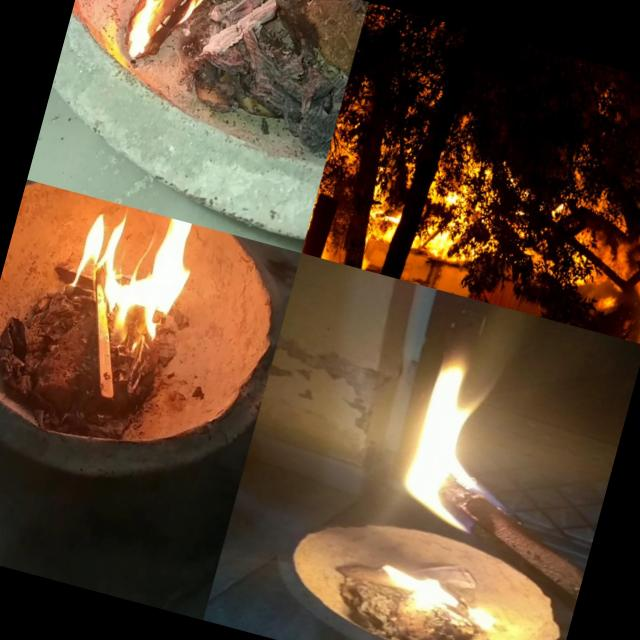fire: (363, 336, 532, 535), (54, 195, 220, 358), (541, 189, 640, 322), (115, 0, 250, 92), (376, 562, 508, 636), (408, 195, 473, 272)
